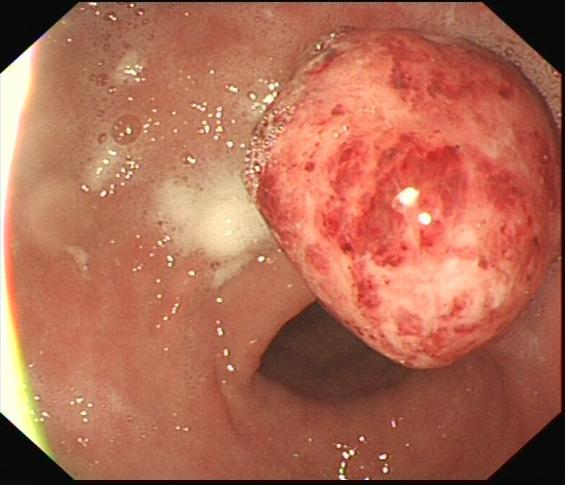Polyp: (239, 26, 564, 379)
